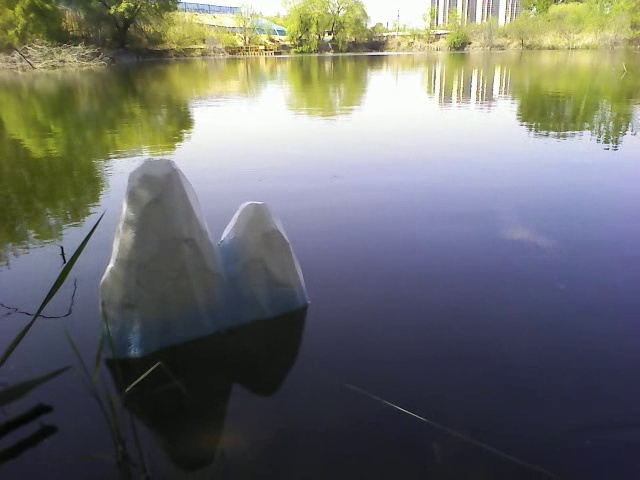iceberg: (94, 154, 318, 361)
